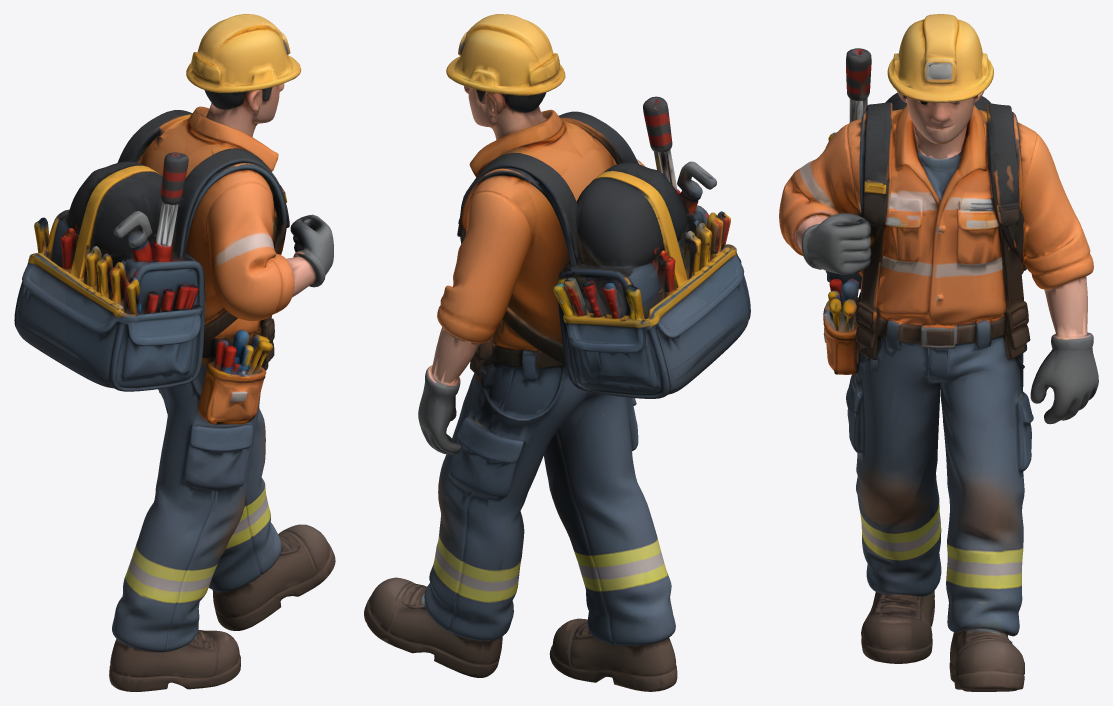
The model's file is work_man.glb.
3 views of the same model, side by side, from view 1: azimuth 30°, elevation 25°; view 2: azimuth 150°, elevation 25°; view 3: azimuth 270°, elevation 25° (orthographic). The views are drawn at different scales.
Parts seen in each view (by area): view 1: node_0; view 2: node_0; view 3: node_0.
Part boxes in pixels (x1,y1,x2,y2): node_0: [14, 14, 335, 691]; node_0: [364, 14, 750, 691]; node_0: [779, 14, 1098, 691].
Size of the model in its own units: 0.5909 by 1.15 by 0.5024.
1 material, 1 textured.
